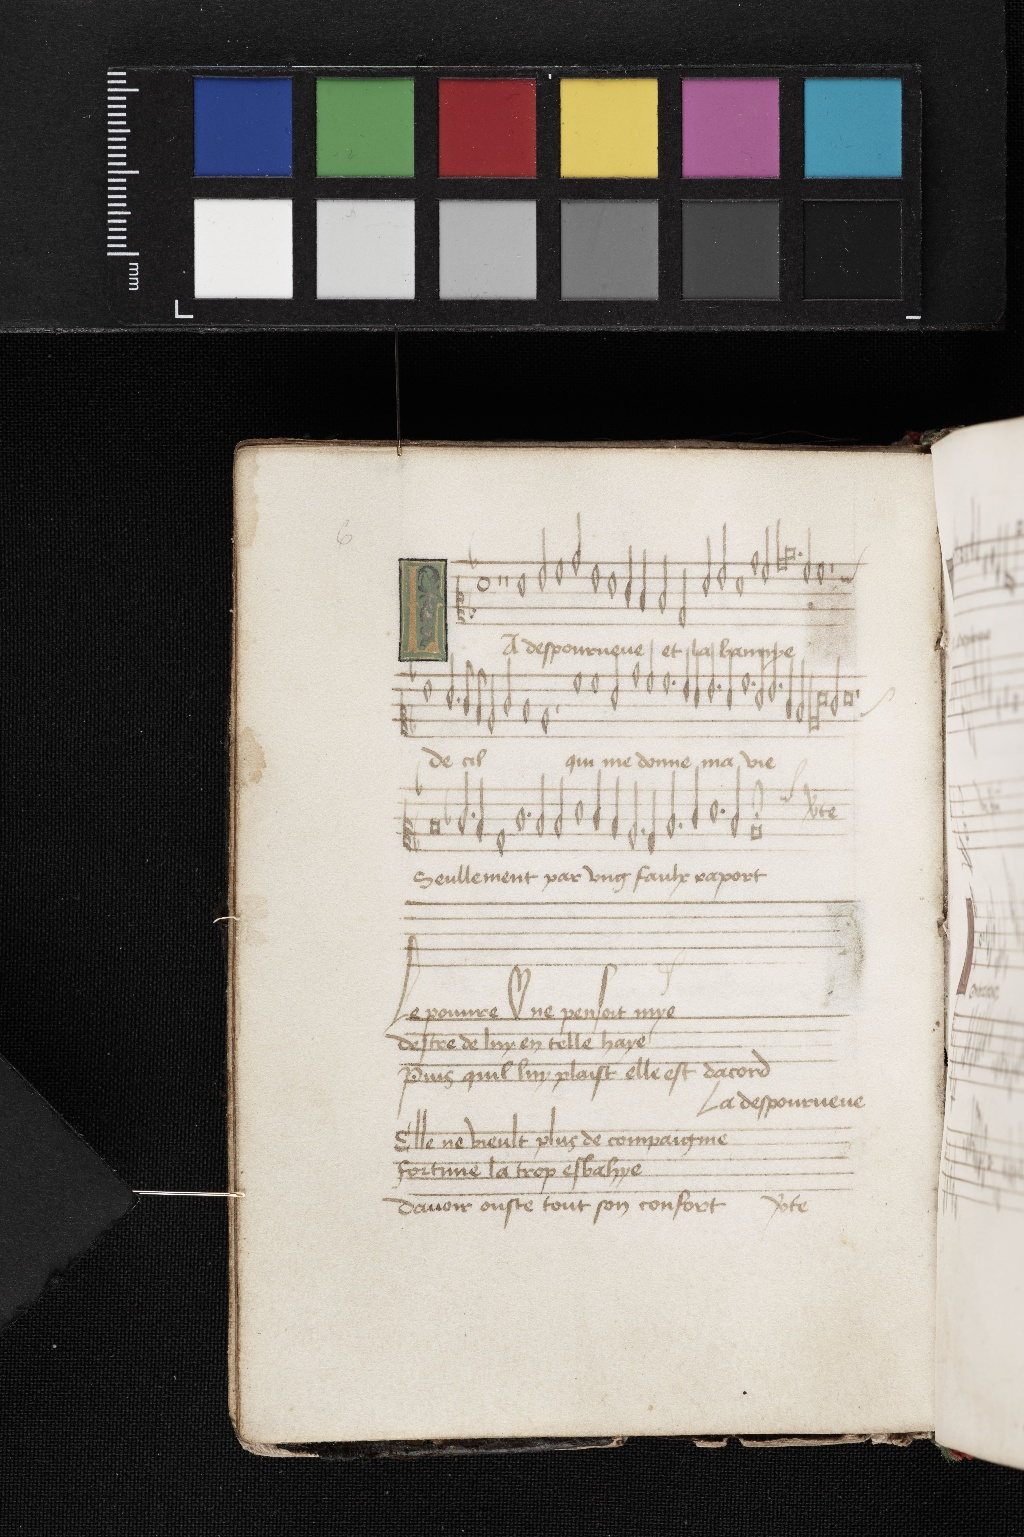breve_6: (840, 685, 857, 713)
c clef_9: (395, 696, 410, 741)
custos_8: (855, 695, 883, 728)
flat_10: (406, 695, 421, 742)
flat_3: (405, 653, 421, 686)
fusa_7: (459, 655, 474, 720)
fusa_8: (473, 662, 488, 731)
l1semibreve_9: (802, 672, 822, 739)
l2semibreve_6: (815, 687, 829, 731)
minim_4: (643, 643, 657, 699)
minim_5: (765, 650, 779, 707), (704, 649, 717, 710)
minim_6: (607, 653, 623, 717), (442, 653, 458, 715), (753, 653, 767, 717)
minim_7: (499, 656, 517, 721), (826, 663, 841, 723)
minim_8: (794, 662, 807, 731)
minim_9: (485, 675, 499, 738)
point: (453, 688, 466, 709), (774, 677, 787, 695), (667, 674, 681, 691), (745, 675, 758, 693), (713, 677, 725, 695)
semibreve rest: (853, 670, 865, 741), (553, 667, 565, 736)
semibreve_3: (629, 657, 645, 691)
semibreve_4: (569, 665, 586, 699), (587, 667, 603, 701), (738, 666, 753, 701), (661, 666, 673, 699)
semibreve_5: (419, 671, 437, 709)
semibreve_8: (518, 693, 534, 729)
semibreve_9: (536, 701, 554, 741)
semiminim_5: (680, 647, 693, 709)
semiminim_6: (723, 653, 737, 718), (690, 647, 702, 715)
semiminim_7: (782, 653, 795, 726)
